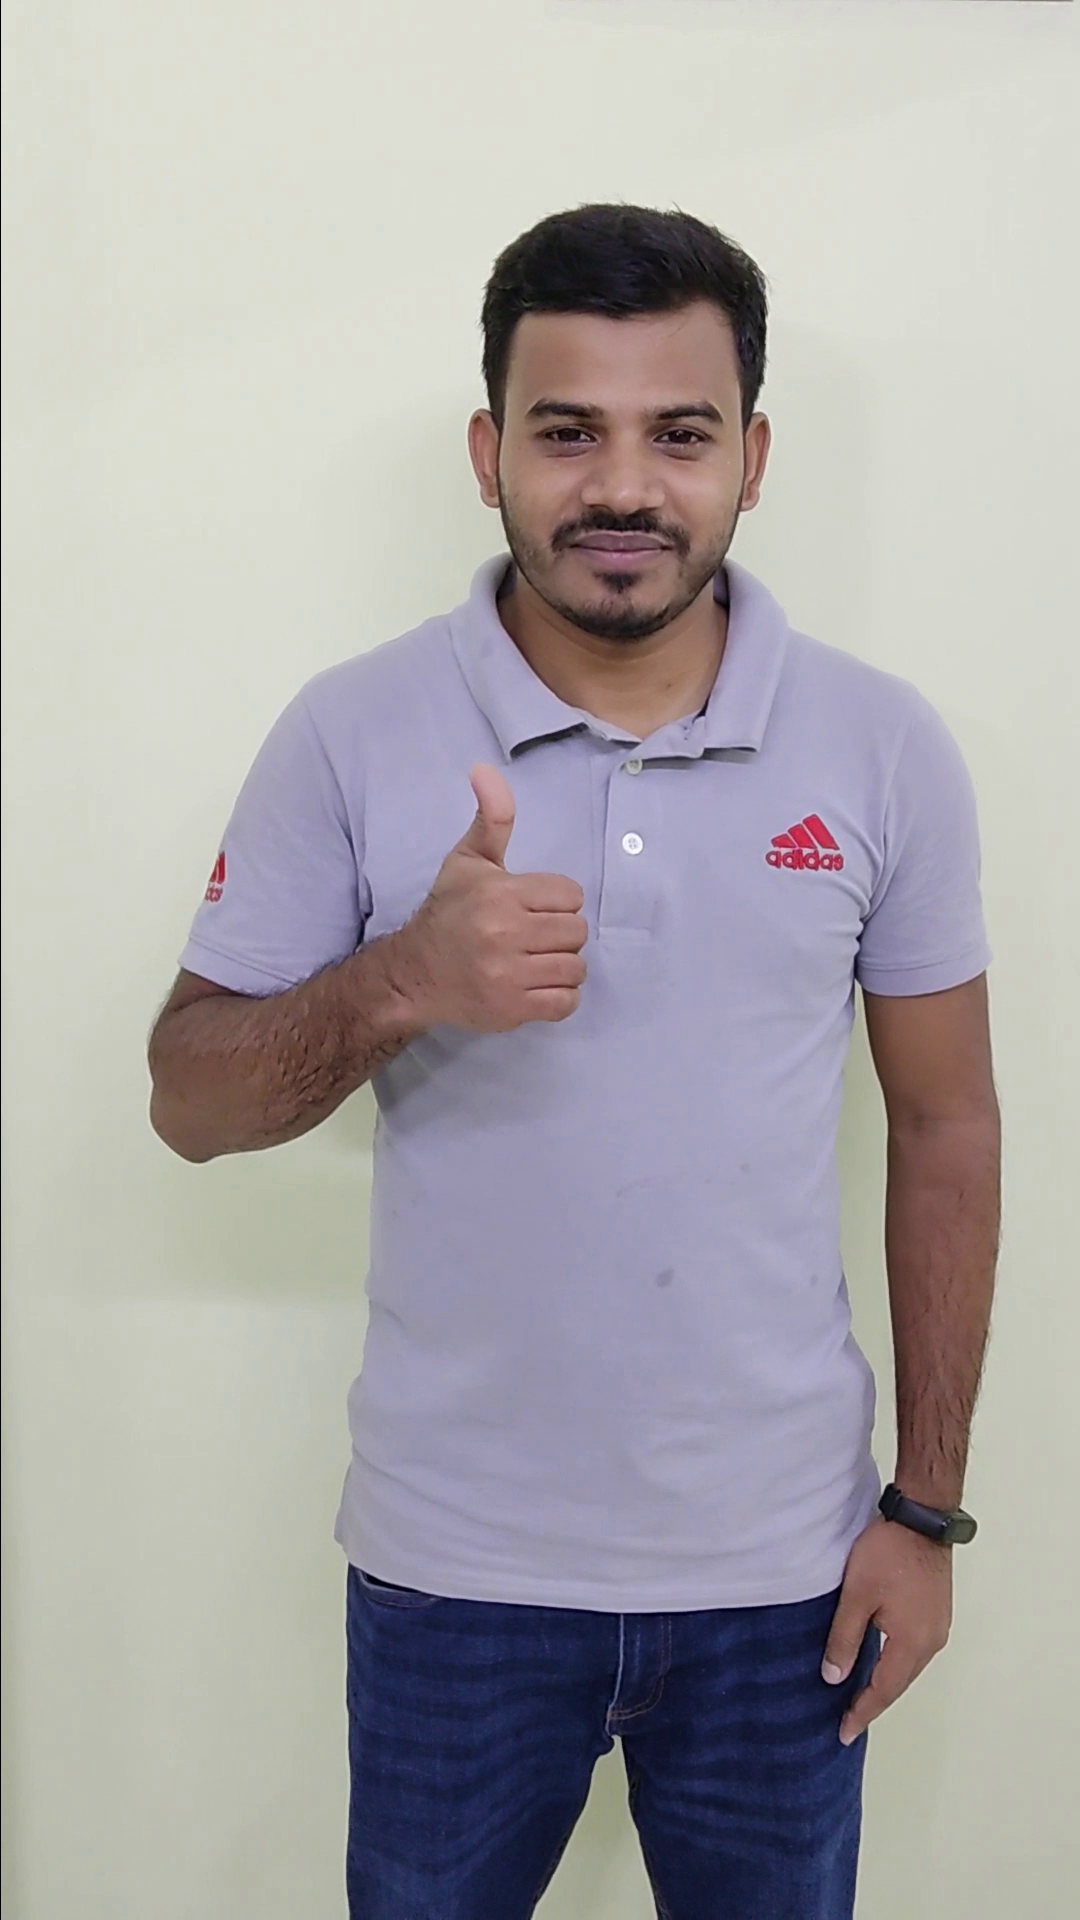Like: (386, 746, 601, 1054)
None: (793, 1462, 990, 1756)
